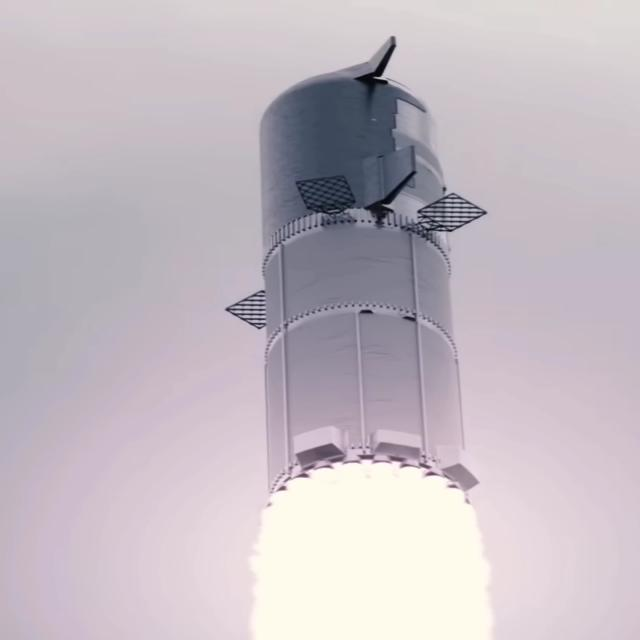Missile: (255, 23, 472, 497)
